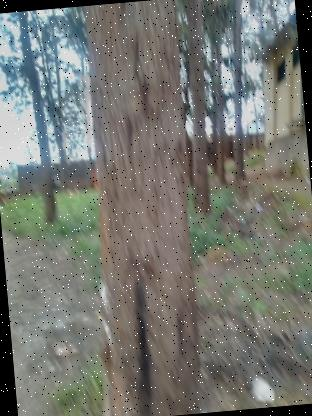tree: (65, 0, 216, 416), (5, 10, 62, 233), (171, 0, 224, 225)
